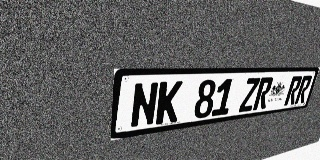1: (211, 79, 235, 116)
8: (193, 79, 218, 119)
K: (155, 81, 183, 125)
N: (130, 82, 159, 129)
R: (253, 77, 274, 110), (284, 76, 303, 106), (294, 75, 313, 104)
Z: (238, 78, 261, 112)
